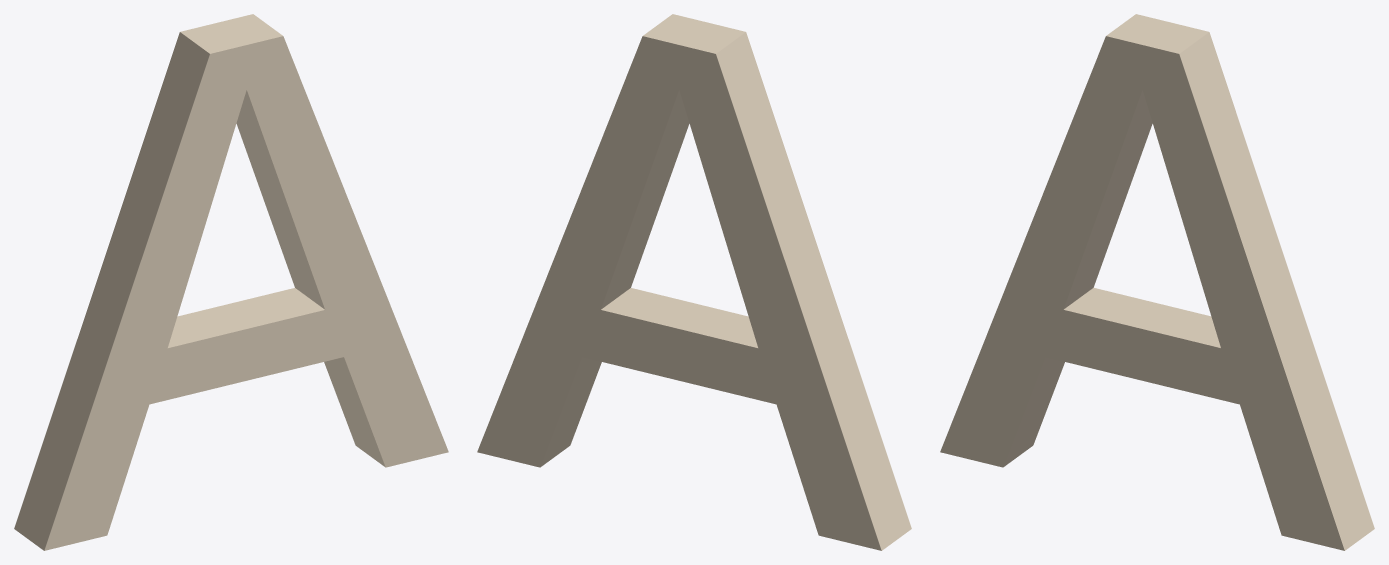
Rendered from original-71.obj.
3 renders of one model, left to right at view 1: azimuth 30°, elevation 25°; view 2: azimuth 150°, elevation 25°; view 3: azimuth 330°, elevation 25°, orthographic.
Visible parts, largest first — view 1: mesh160/mesh160-geometry#mesh160-geometry; view 2: mesh160/mesh160-geometry#mesh160-geometry; view 3: mesh160/mesh160-geometry#mesh160-geometry.
Part boxes in pixels (left/top/right/bottom): mesh160/mesh160-geometry#mesh160-geometry: left=14, top=14, right=448, bottom=550; mesh160/mesh160-geometry#mesh160-geometry: left=477, top=14, right=911, bottom=550; mesh160/mesh160-geometry#mesh160-geometry: left=940, top=14, right=1374, bottom=550.
Bounding box in the file's own units: 0.0119 × 0.0128 × 0.00154.
